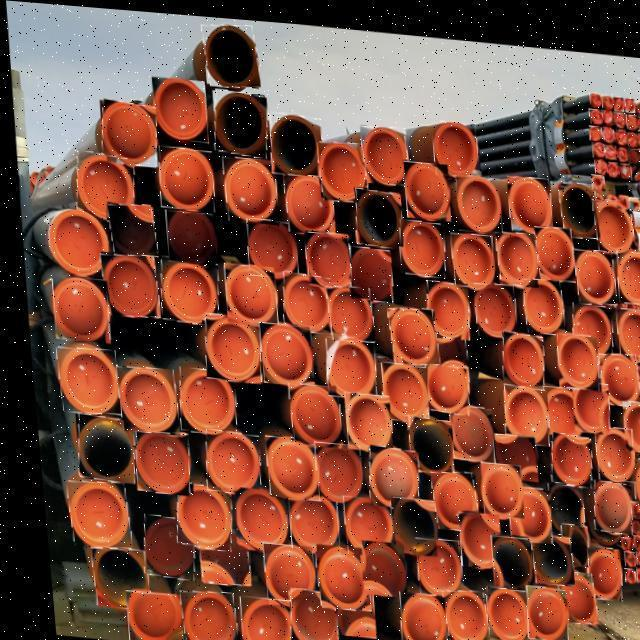pipe: (73, 149, 131, 223), (57, 481, 122, 546), (50, 347, 114, 413), (44, 207, 105, 276), (109, 365, 172, 431), (172, 363, 227, 434), (47, 274, 104, 342), (157, 254, 213, 323), (70, 412, 125, 482), (200, 309, 254, 380), (98, 97, 154, 165), (168, 479, 222, 548), (95, 253, 155, 315), (219, 154, 275, 220), (212, 85, 265, 154), (150, 74, 206, 139), (200, 21, 259, 82), (81, 547, 140, 608), (156, 142, 210, 208), (225, 483, 279, 549), (198, 425, 251, 492), (128, 425, 180, 493), (253, 318, 308, 382), (257, 432, 312, 495), (305, 542, 360, 604), (281, 379, 335, 442), (253, 538, 305, 603), (269, 107, 319, 174), (220, 259, 272, 322), (134, 513, 183, 578), (361, 439, 409, 505), (243, 213, 294, 275), (320, 331, 370, 394), (280, 170, 332, 230), (279, 487, 330, 548), (277, 266, 326, 329), (168, 588, 227, 640), (334, 491, 384, 552), (306, 437, 355, 499), (314, 138, 366, 196), (114, 589, 172, 640), (187, 526, 240, 581), (337, 386, 385, 446), (352, 181, 398, 243), (375, 355, 421, 417), (358, 120, 408, 177), (382, 302, 433, 357), (422, 465, 471, 522), (417, 346, 462, 408), (406, 532, 453, 591), (162, 206, 211, 262), (429, 113, 477, 170), (453, 166, 498, 226), (279, 584, 327, 640), (431, 584, 479, 640), (401, 154, 446, 213), (300, 227, 348, 282), (321, 281, 369, 336), (504, 167, 550, 224), (397, 212, 441, 271), (383, 491, 428, 548), (442, 397, 486, 455), (103, 203, 153, 254), (389, 585, 435, 640), (498, 377, 540, 437), (229, 592, 281, 640), (402, 410, 445, 468), (446, 225, 491, 280), (352, 536, 396, 592), (449, 505, 493, 561), (422, 272, 463, 332), (501, 477, 542, 535), (517, 271, 560, 326), (469, 275, 512, 330), (472, 455, 515, 510), (345, 240, 387, 296), (491, 225, 536, 277), (552, 324, 593, 381), (497, 323, 538, 380), (569, 240, 612, 294), (477, 579, 517, 637), (555, 173, 597, 228), (536, 377, 576, 434), (516, 577, 556, 633), (589, 190, 631, 243), (530, 218, 571, 272), (481, 527, 522, 581), (543, 423, 583, 478), (592, 343, 634, 395), (566, 293, 606, 347), (587, 417, 627, 471), (521, 526, 564, 576), (487, 425, 530, 473), (323, 583, 365, 632), (585, 470, 623, 524), (546, 564, 587, 614), (566, 370, 601, 424), (539, 474, 574, 527), (578, 536, 610, 591), (611, 298, 640, 352), (613, 240, 640, 294), (426, 324, 462, 359), (616, 391, 640, 442), (552, 514, 578, 558), (624, 449, 640, 501), (587, 99, 602, 114), (589, 164, 602, 180), (590, 132, 603, 148), (587, 116, 600, 131), (614, 558, 626, 573), (614, 541, 626, 556), (625, 103, 636, 119), (626, 541, 638, 555), (602, 135, 614, 149), (615, 184, 626, 199), (592, 149, 603, 164), (628, 155, 639, 170), (626, 138, 637, 153), (626, 557, 636, 573), (618, 152, 628, 168), (612, 102, 624, 115), (600, 85, 612, 98), (622, 510, 633, 524), (601, 117, 612, 131), (625, 121, 636, 135), (601, 100, 612, 114), (623, 87, 634, 101), (612, 86, 623, 100), (589, 82, 600, 96), (606, 152, 616, 167), (615, 136, 625, 151), (623, 525, 634, 538), (627, 186, 637, 200), (614, 119, 624, 133), (612, 527, 622, 540), (621, 492, 631, 504), (634, 524, 640, 539), (634, 510, 640, 524), (636, 90, 640, 104), (637, 105, 640, 120), (637, 122, 640, 136), (637, 371, 640, 384), (638, 354, 640, 369)
